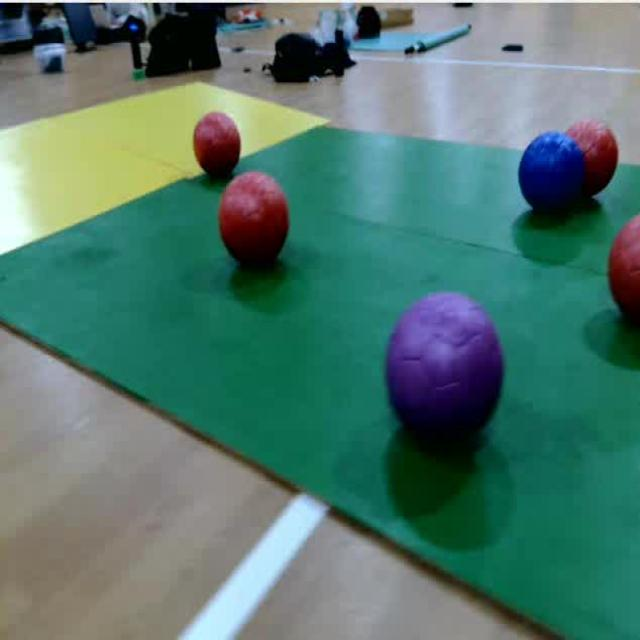blue_ball: (516, 130, 587, 217)
purple_ball: (387, 293, 503, 445)
red_ball: (218, 172, 291, 269), (565, 124, 618, 197), (607, 214, 640, 322), (193, 113, 240, 178)
